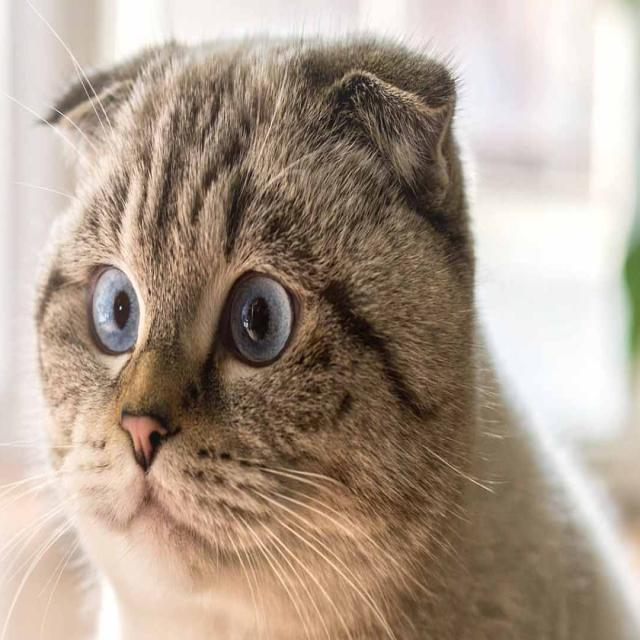Scottish Fold: (27, 18, 639, 640)
